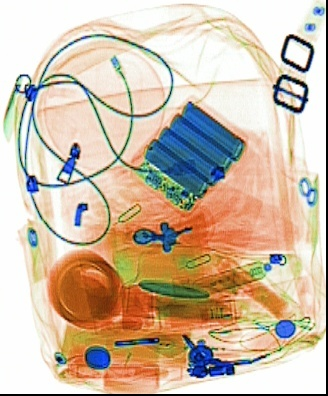powerbank: (128, 95, 249, 216)
